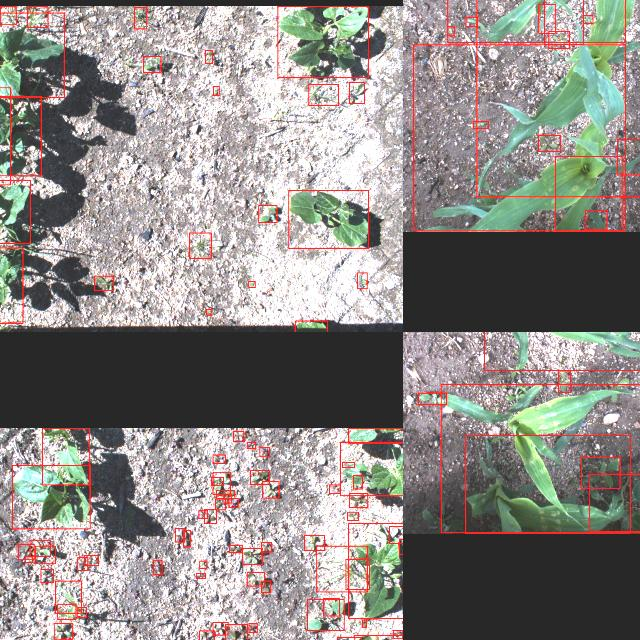crop: (413, 44, 625, 230), (477, 0, 640, 196), (441, 384, 640, 532), (466, 435, 630, 533), (447, 0, 624, 41), (277, 5, 368, 76), (484, 332, 640, 370), (0, 11, 64, 96), (348, 522, 403, 618), (12, 464, 90, 528), (556, 156, 622, 230), (289, 190, 369, 248), (340, 441, 403, 495), (0, 95, 41, 175), (42, 428, 90, 484), (0, 179, 30, 242), (544, 0, 583, 43), (0, 247, 22, 323), (348, 427, 403, 442), (617, 139, 640, 174), (539, 4, 555, 32), (586, 210, 606, 230), (295, 320, 327, 332), (58, 603, 76, 619)
weed: (589, 474, 640, 532), (317, 545, 367, 591), (582, 457, 620, 488), (308, 598, 344, 630), (56, 580, 82, 612), (346, 559, 370, 589), (309, 84, 339, 105), (189, 232, 211, 258), (28, 6, 48, 27), (212, 471, 230, 494), (549, 30, 569, 48), (35, 545, 55, 563), (538, 135, 560, 151), (225, 624, 247, 640), (418, 392, 447, 404), (259, 204, 277, 222), (262, 480, 280, 498), (30, 539, 50, 555), (242, 548, 262, 564), (304, 534, 324, 550), (350, 81, 364, 102), (143, 56, 161, 72), (0, 6, 16, 24), (54, 622, 72, 638), (323, 598, 339, 616), (350, 492, 368, 508), (250, 469, 270, 483), (95, 276, 114, 290), (134, 6, 146, 28), (558, 370, 570, 392), (18, 543, 34, 559), (389, 525, 403, 542), (248, 571, 264, 585), (40, 568, 54, 582), (212, 622, 228, 634), (204, 508, 216, 522), (357, 272, 367, 288), (217, 489, 236, 497), (199, 630, 214, 640), (78, 556, 88, 570), (84, 555, 98, 565), (353, 474, 362, 488), (466, 16, 478, 26), (261, 580, 271, 592), (260, 541, 272, 551), (212, 453, 225, 462), (474, 120, 488, 128), (154, 560, 162, 574), (183, 530, 190, 546), (176, 527, 184, 541), (215, 498, 225, 508), (234, 430, 244, 440), (259, 446, 269, 456), (348, 510, 358, 520), (211, 476, 223, 484), (230, 544, 242, 552), (337, 636, 361, 640), (205, 49, 212, 62), (77, 607, 86, 617), (228, 498, 238, 507), (330, 483, 340, 492), (583, 15, 593, 23), (198, 510, 208, 518), (249, 622, 257, 632), (393, 630, 403, 638), (398, 538, 403, 553), (247, 440, 256, 448), (223, 493, 230, 502), (448, 26, 454, 36), (196, 572, 206, 578), (213, 86, 219, 94), (200, 560, 206, 568), (342, 462, 354, 466), (249, 281, 255, 287), (26, 556, 32, 562), (362, 619, 366, 627), (206, 310, 212, 314)
